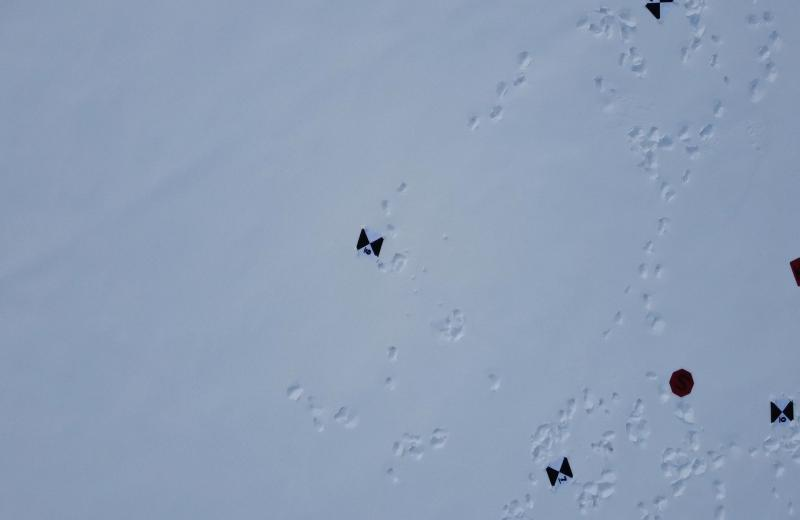Octagon: (666, 365, 696, 400)
